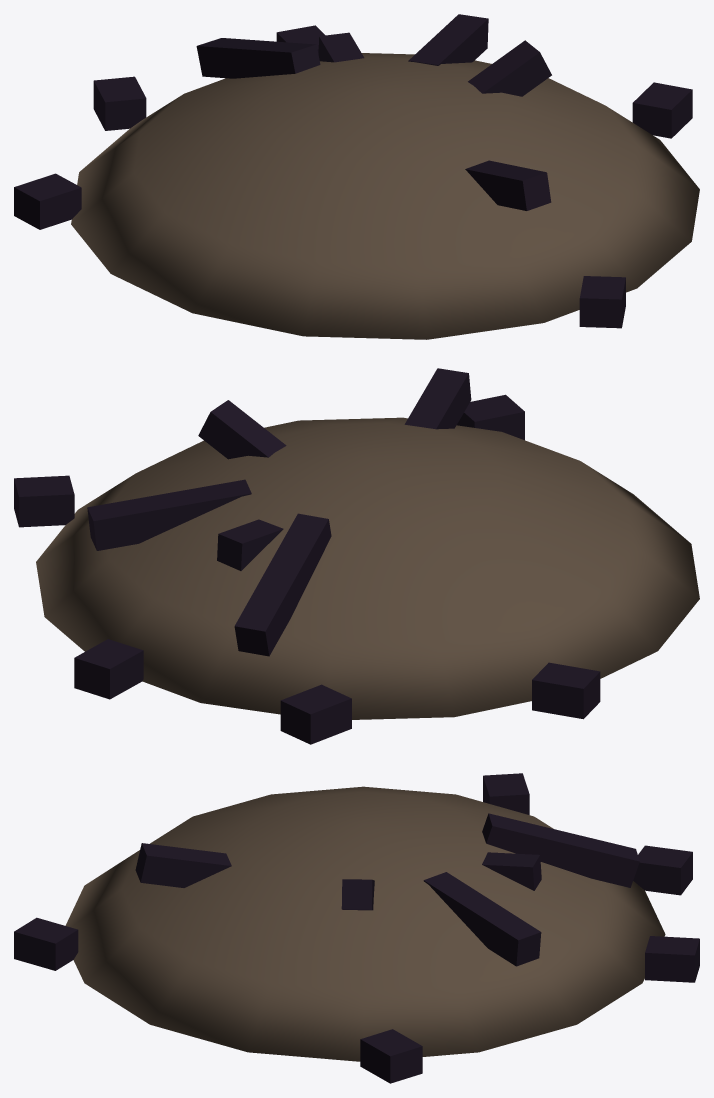
File: ash_heap.glb
The picture shows the model from 3 angles, top to bottom: view 1: azimuth 30°, elevation 25°; view 2: azimuth 150°, elevation 25°; view 3: azimuth 270°, elevation 25°; orthographic projection. The views are drawn at different scales.
Parts seen in each view (by area): view 1: ash_heap; view 2: ash_heap; view 3: ash_heap.
Part boxes in pixels (bbox=[...]): ash_heap: bbox=[14, 14, 699, 339]; ash_heap: bbox=[14, 368, 699, 744]; ash_heap: bbox=[14, 773, 699, 1083].
Size of the model in its own units: 0.6651 by 0.1336 by 0.6813.
